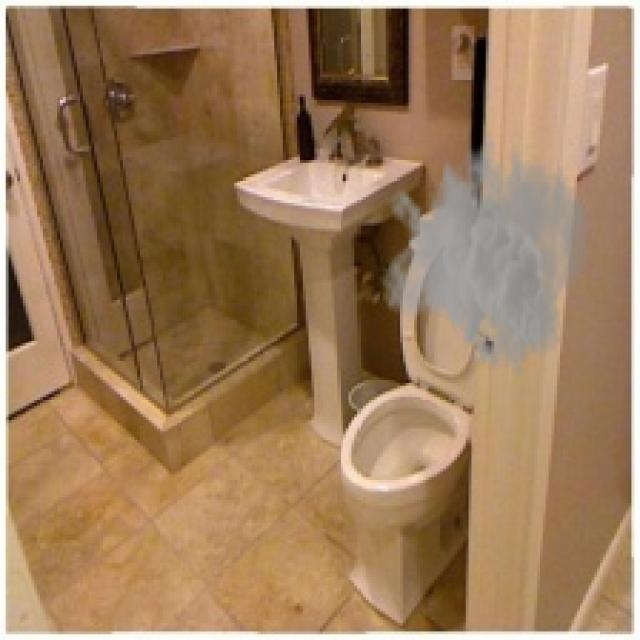smoke: (380, 123, 591, 380)
